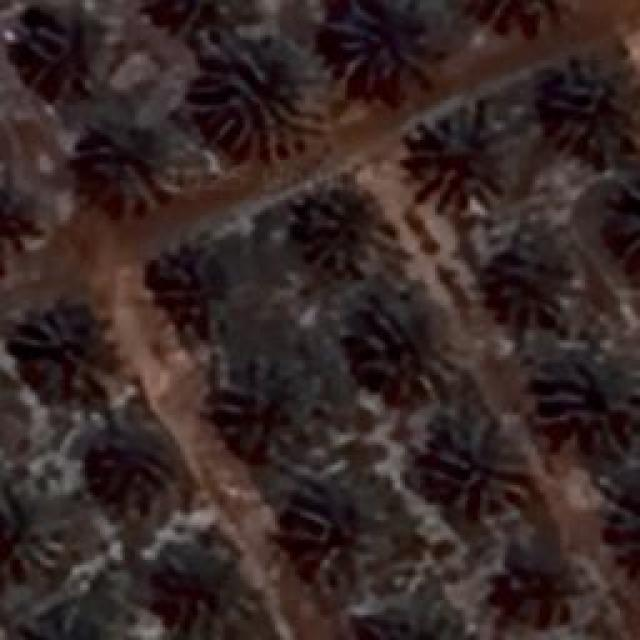PalmTree: (190, 30, 328, 160), (430, 410, 535, 522), (216, 360, 326, 455), (408, 105, 502, 213), (547, 50, 635, 158), (292, 484, 390, 578), (328, 2, 438, 82), (295, 180, 390, 272), (80, 118, 172, 212), (357, 312, 455, 398), (490, 236, 580, 322), (542, 360, 638, 440), (162, 546, 250, 626), (99, 424, 179, 508), (28, 309, 108, 389), (154, 254, 234, 326), (22, 13, 96, 90), (457, 0, 576, 45), (0, 166, 49, 275), (138, 0, 256, 45), (351, 595, 468, 640), (502, 552, 578, 618), (0, 496, 52, 581), (599, 175, 640, 281), (599, 461, 640, 566), (12, 604, 107, 640)
